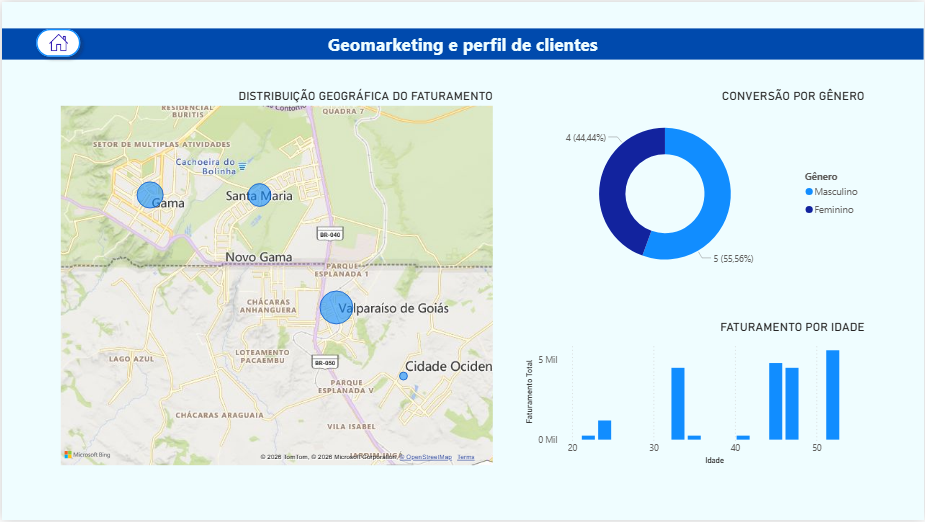

Layout of this report page (visuals, bound fields, positions):
{"tool":"powerbi","page":{"name":"Geomarketing e Perfil","canvas":[1280,720],"ordinal":2},"visuals":[{"type":"textbox","box":[0,36.7,1280,43.3],"z":0},{"type":"donutChart","title":"CONVERSÃO POR GÊNERO","fields":{"Category":["Pacientes.Gênero"],"Y":["_Medidas.Leads Convertidos"]},"box":[722.1,119.3,481.2,273.3],"z":1000},{"type":"clusteredColumnChart","title":"FATURAMENTO POR IDADE","fields":{"Category":["Pacientes.Idade"],"Y":["_Medidas.Faturamento Total"]},"box":[721.7,441.7,481.7,206.7],"z":2000},{"type":"group","id":"g1","title":"Grupo 1","box":[38.9,28.8,79.5,56.8],"z":3000},{"type":"map","title":"DISTRIBUIÇÃO GEOGRÁFICA DO FATURAMENTO","fields":{"Category":["Pacientes.Localizacao_Complet"],"Size":["_Medidas.Faturamento Total"]},"box":[76.7,120,610,528.3],"z":4000},{"type":"actionButton","box":[38.9,28.8,79.5,56.8],"z":6000,"group":"g1"},{"type":"image","box":[64.9,44.2,27.4,26],"z":7000,"group":"g1"}]}

Visuals, with their boxes in screenshot pixels (x1, y1, x2, y2), scaled from the page's 1280x720 canvas onto the 925x522 screenshot:
textbox: select_region(0, 27, 924, 58)
"CONVERSÃO POR GÊNERO" donutChart: select_region(522, 86, 870, 285)
"FATURAMENTO POR IDADE" clusteredColumnChart: select_region(522, 320, 870, 470)
"Grupo 1" group: select_region(28, 21, 86, 62)
"DISTRIBUIÇÃO GEOGRÁFICA DO FATURAMENTO" map: select_region(55, 87, 496, 470)
actionButton: select_region(28, 21, 86, 62)
image: select_region(47, 32, 67, 51)
